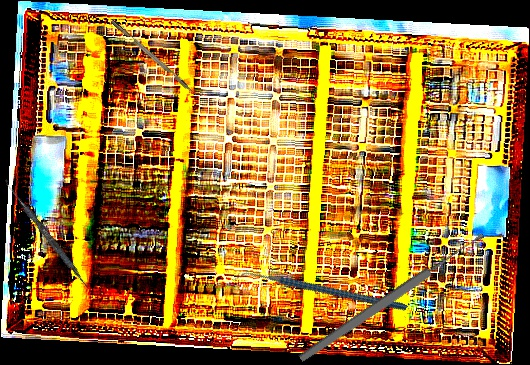Chopper: (232, 221, 408, 365), (110, 14, 204, 101)
Spatula Surgical: (0, 178, 94, 292)
Surgical Spoon: (297, 230, 487, 365)
